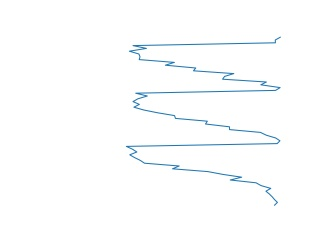distributaryMouthBar: (124, 37, 283, 208)
